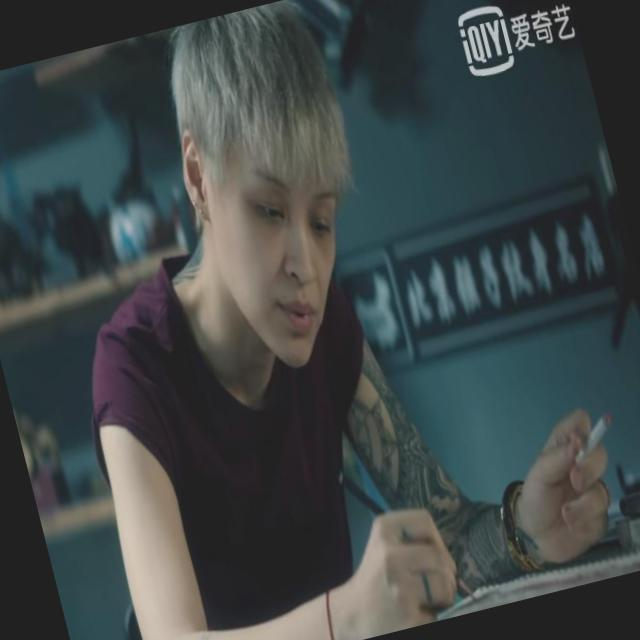cigarette: (583, 392, 632, 467)
